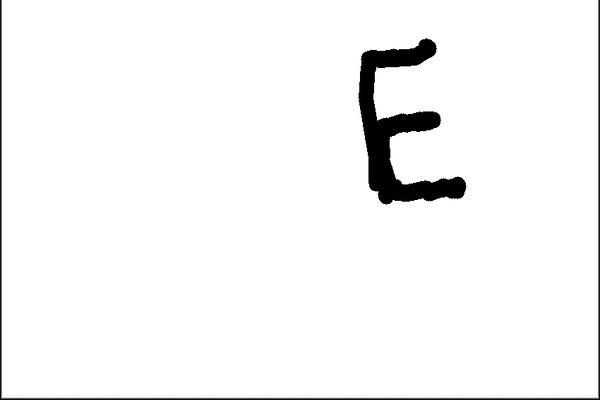E: (352, 36, 476, 210)
